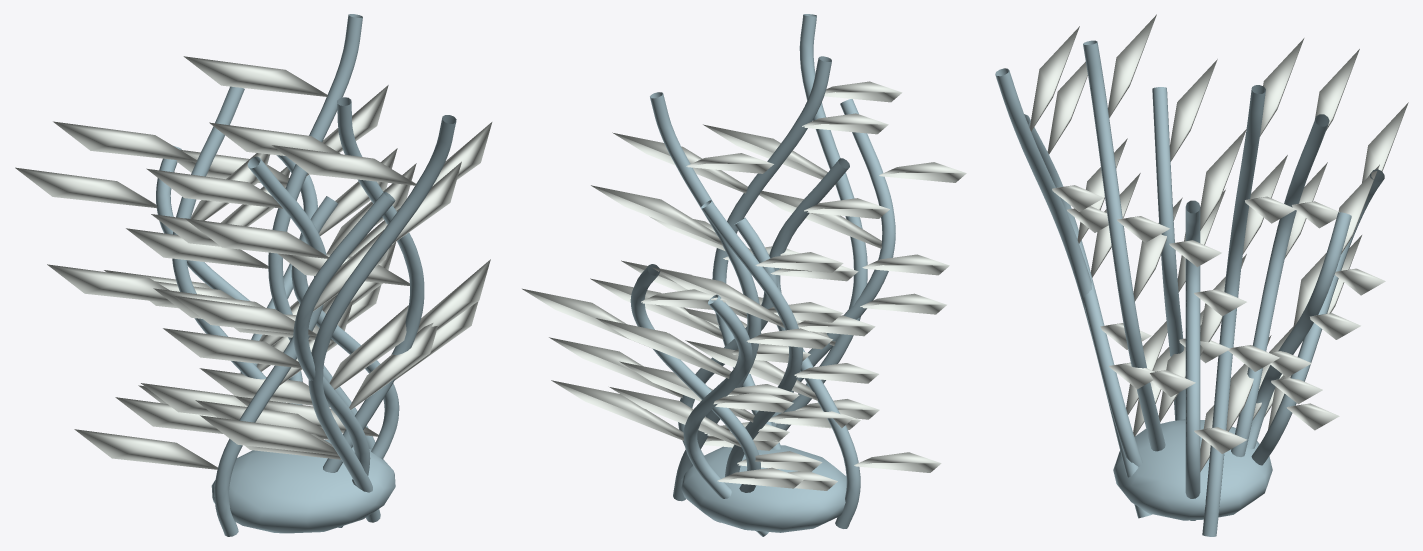
The model's file is bio_aquatic_frond_11_far.glb.
3 views of the same model, side by side, from view 1: azimuth 30°, elevation 25°; view 2: azimuth 150°, elevation 25°; view 3: azimuth 270°, elevation 25° (orthographic). The views are drawn at different scales.
Parts seen in each view (by area): view 1: Ruffled aquatic blade.010, Holdfast, Ruffled aquatic blade.035, Ruffled aquatic blade.040, Ruffled aquatic blade.005, Ruffled aquatic blade.025, Ruffled aquatic blade.020, Flexible stipe.002, Ruffled aquatic blade.015, Flexible stipe.004, Flexible stipe.007, Ruffled aquatic blade.030 (+7 smaller); view 2: Holdfast, Ruffled aquatic blade.030, Ruffled aquatic blade.005, Ruffled aquatic blade.015, Ruffled aquatic blade.025, Ruffled aquatic blade.020, Ruffled aquatic blade.010, Ruffled aquatic blade.040, Ruffled aquatic blade.035, Flexible stipe.004, Flexible stipe.002, Ruffled aquatic blade (+7 smaller); view 3: Holdfast, Flexible stipe.005, Flexible stipe.008, Ruffled aquatic blade.040, Ruffled aquatic blade.025, Flexible stipe.001, Ruffled aquatic blade.010, Flexible stipe, Flexible stipe.002, Ruffled aquatic blade.035, Flexible stipe.004, Ruffled aquatic blade (+7 smaller).
Boxes of the visible parts, x1,y1,x2,y2 form: Ruffled aquatic blade.010: (173,145,461,455); Holdfast: (211,440,395,533); Ruffled aquatic blade.035: (163,218,437,459); Ruffled aquatic blade.040: (126,56,395,407); Ruffled aquatic blade.005: (47,121,299,416); Ruffled aquatic blade.025: (195,122,492,439); Ruffled aquatic blade.020: (74,163,416,469); Flexible stipe.002: (308,115,456,522); Ruffled aquatic blade.015: (115,148,397,433); Flexible stipe.004: (214,156,326,536); Flexible stipe.007: (293,191,395,527); Ruffled aquatic blade.030: (15,167,381,403); Holdfast: (681,445,846,532); Ruffled aquatic blade.030: (551,318,832,488); Ruffled aquatic blade.005: (619,252,878,471); Ruffled aquatic blade.015: (522,288,837,490); Ruffled aquatic blade.025: (590,113,888,428); Ruffled aquatic blade.020: (649,198,941,472); Ruffled aquatic blade.010: (703,81,949,419); Ruffled aquatic blade.040: (591,153,842,441); Ruffled aquatic blade.035: (684,162,966,429); Flexible stipe.004: (769,158,860,528); Flexible stipe.002: (776,14,867,430); Ruffled aquatic blade: (549,260,858,450); Holdfast: (1113,419,1272,520); Flexible stipe.005: (1083,40,1165,451); Flexible stipe.008: (1202,85,1265,536); Ruffled aquatic blade.040: (1226,38,1304,431); Ruffled aquatic blade.025: (1108,14,1201,421); Flexible stipe.001: (1231,114,1329,456); Ruffled aquatic blade.010: (1029,26,1167,414); Flexible stipe: (1185,200,1200,520); Flexible stipe.002: (995,68,1151,518); Ruffled aquatic blade.035: (1047,61,1182,436); Flexible stipe.004: (1152,87,1185,420); Ruffled aquatic blade: (1194,129,1246,471).
Size of the model in its own units: 1.79 by 1.89 by 1.56.
